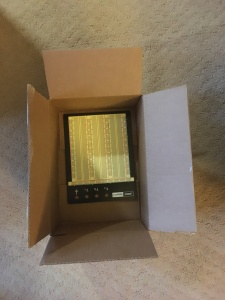innerbox: (48, 99, 150, 233)
outerbox: (30, 50, 198, 260)
product: (65, 115, 136, 203)
